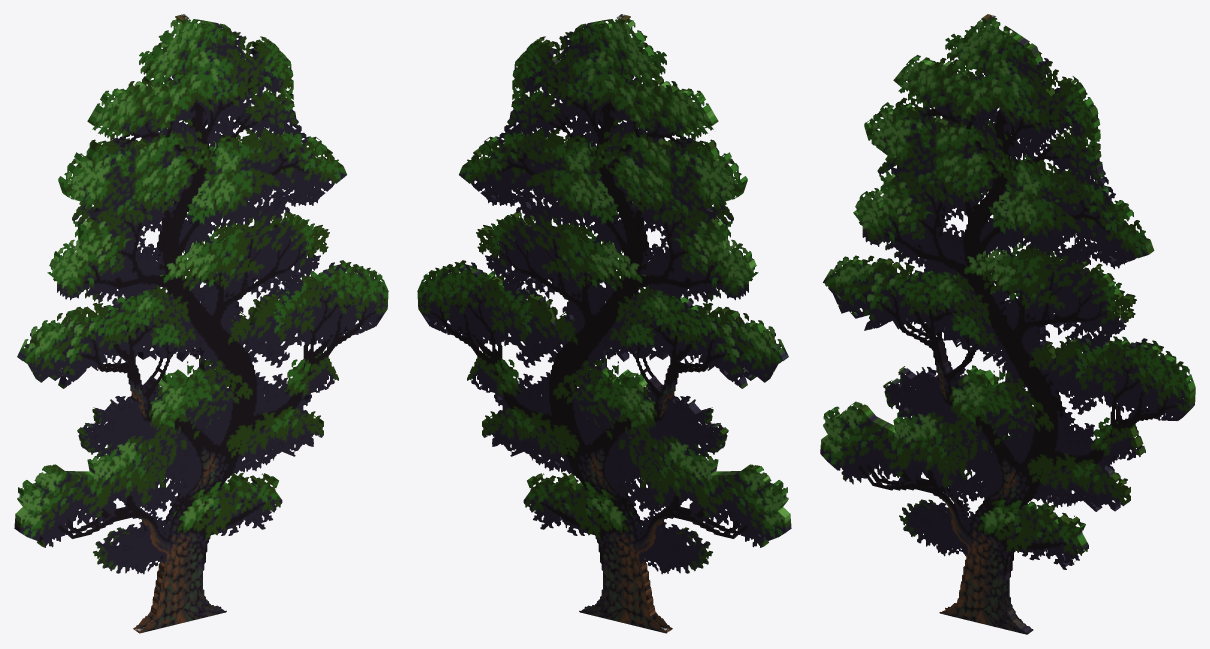
File: tree6-1.fbx
3 views of the same model, side by side, from view 1: azimuth 30°, elevation 25°; view 2: azimuth 150°, elevation 25°; view 3: azimuth 330°, elevation 25° (orthographic).
Visible parts, largest first — view 1: Plane; view 2: Plane; view 3: Plane.
Boxes of the visible parts, x1,y1,x2,y2 form: Plane: (14, 14, 388, 633); Plane: (417, 14, 791, 633); Plane: (820, 14, 1195, 634).
Bounding box in the file's own units: 192 × 300 × 5.
Materials: 1 (1 with a texture image).
